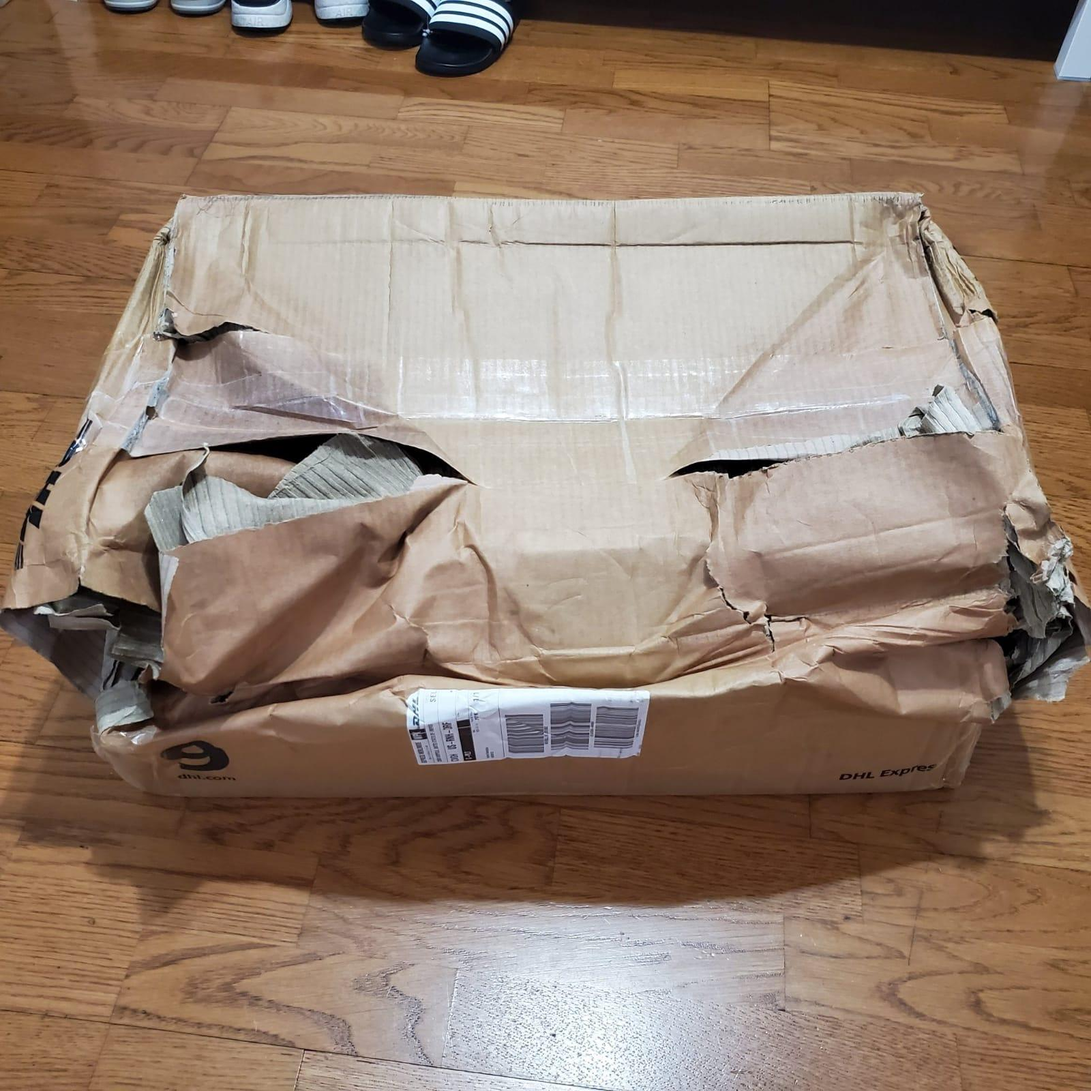damaged package: (7, 432, 481, 769), (652, 225, 1010, 487), (79, 312, 279, 507), (990, 488, 1074, 721), (687, 561, 828, 658)
undamaged: (0, 163, 1090, 830)
